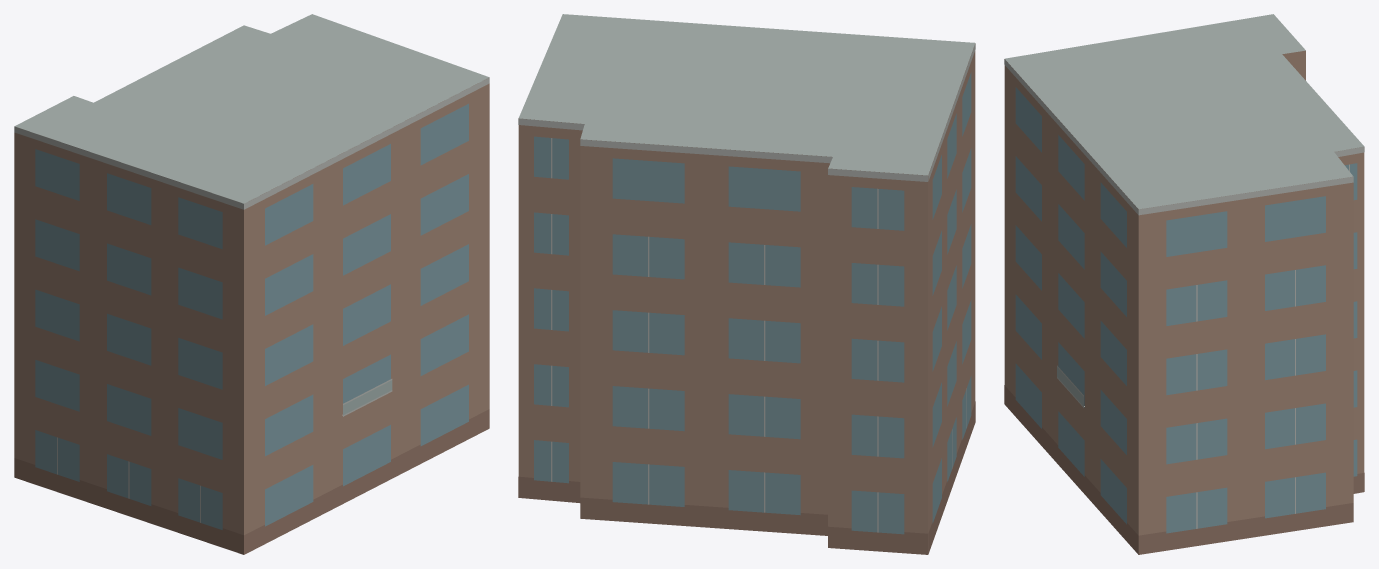
The model's file is survey-upis-32993965.glb.
3 views of the same model, side by side, from view 1: azimuth 30°, elevation 25°; view 2: azimuth 150°, elevation 25°; view 3: azimuth 270°, elevation 25° (orthographic). The views are drawn at different scales.
Parts seen in each view (by area): view 1: survey-upis-32993965.tmp; view 2: survey-upis-32993965.tmp; view 3: survey-upis-32993965.tmp.
Boxes of the visible parts, bbox=[...] form: survey-upis-32993965.tmp: bbox=[14, 14, 489, 554]; survey-upis-32993965.tmp: bbox=[518, 14, 975, 554]; survey-upis-32993965.tmp: bbox=[1004, 14, 1364, 554].
Size of the model in its own units: 17.11 by 14.1 by 13.32.
